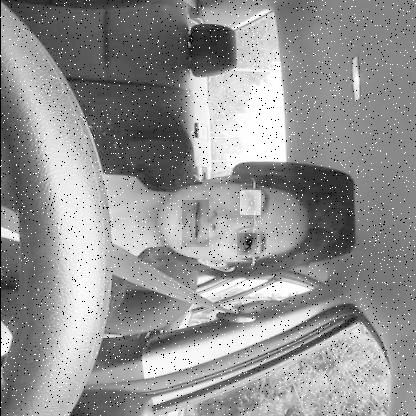seatbelt: (0, 160, 344, 298)
